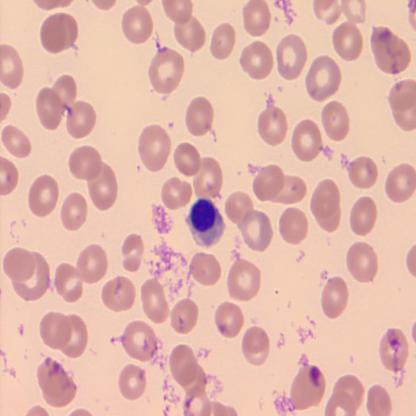NRC: (187, 196, 227, 251)
